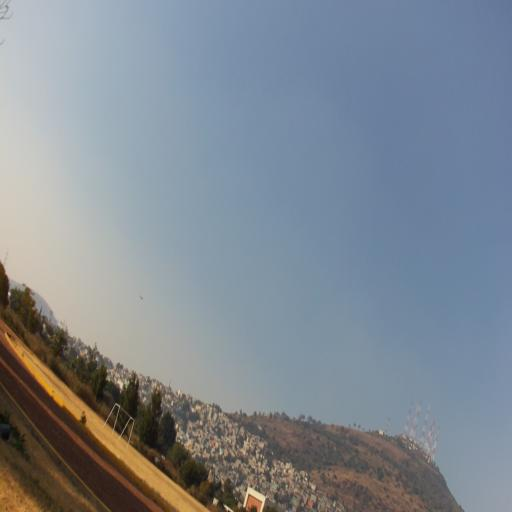drones: (139, 294, 144, 302)
